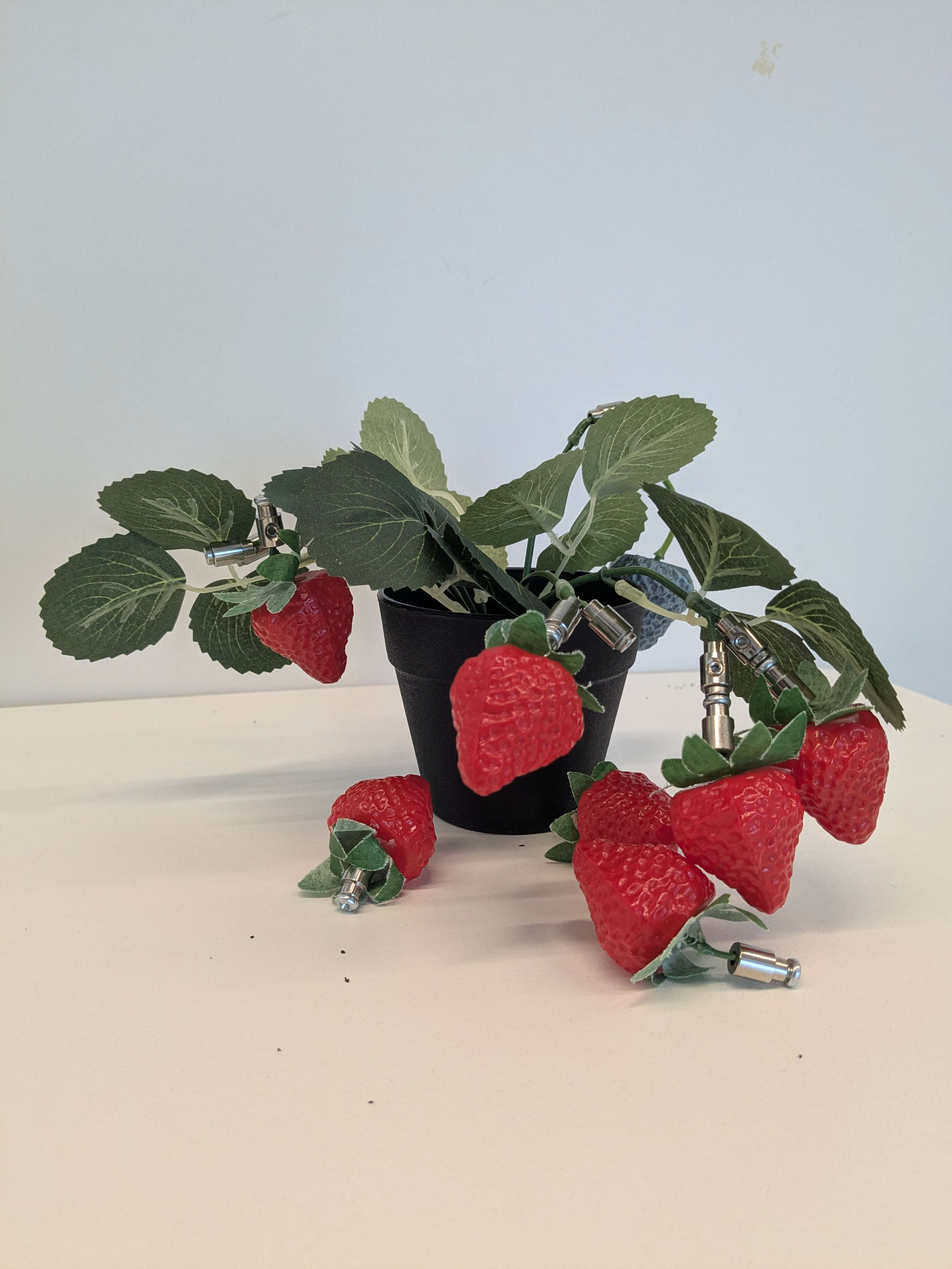Strawberry: (436, 616, 606, 794), (559, 836, 723, 975), (755, 689, 897, 846), (670, 756, 812, 911), (315, 759, 447, 890), (244, 567, 363, 685), (563, 768, 690, 856)
